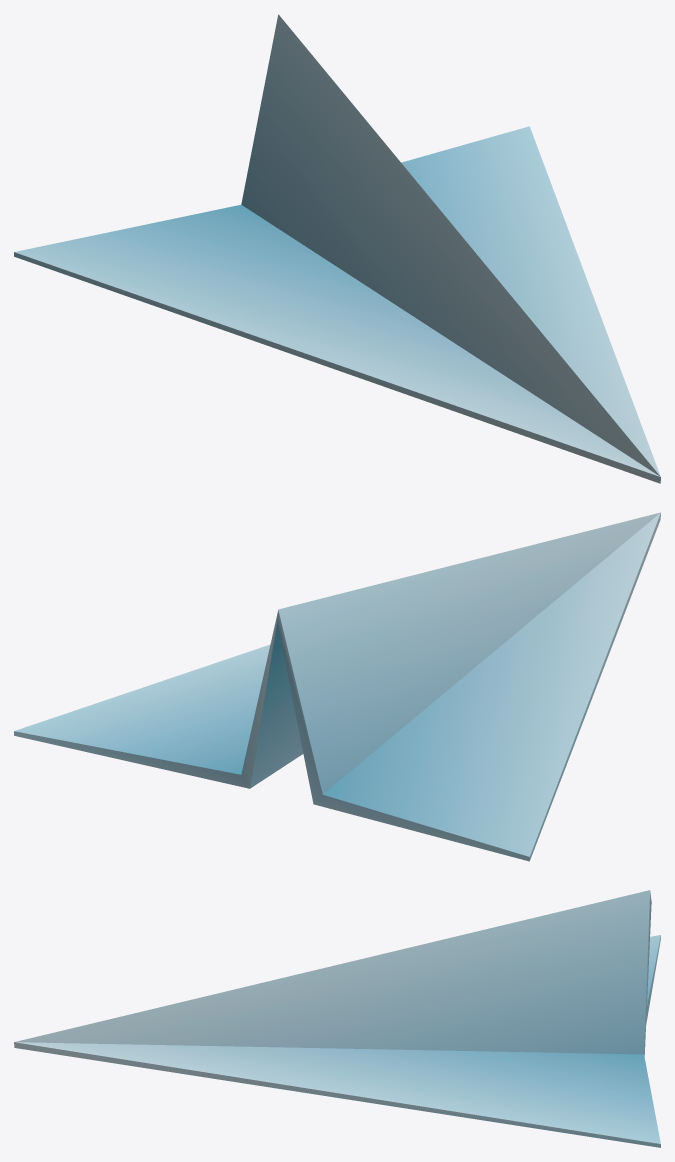
Rendered from paperPlane.fbx.
3 views of the same model, one above another, from view 1: azimuth 30°, elevation 25°; view 2: azimuth 150°, elevation 25°; view 3: azimuth 270°, elevation 25° (orthographic). The views are drawn at different scales.
Parts seen in each view (by area): view 1: paperPlane; view 2: paperPlane; view 3: paperPlane.
Part boxes in pixels (<box>): paperPlane: <box>14,14,660,483</box>; paperPlane: <box>14,512,660,861</box>; paperPlane: <box>14,890,660,1147</box>.
Size of the model in its own units: 15.48 by 5.45 by 20.23.
